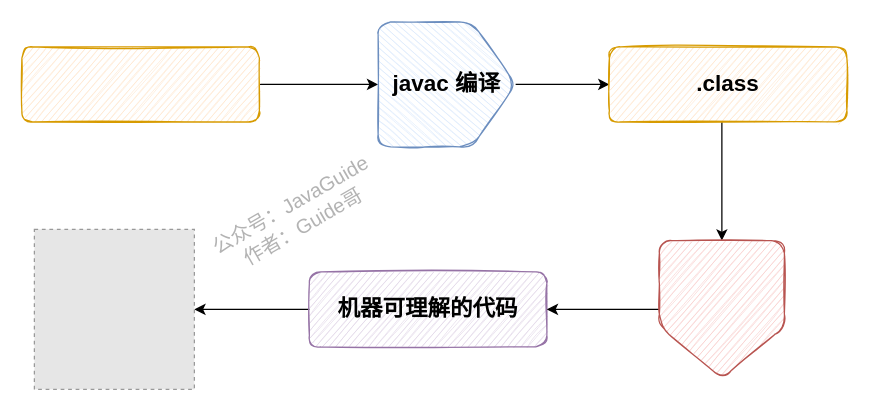
The diagram is 869 pixels wide and 411 high, and some of its shapes have lost their labels. Grey dashed boxes stand in for pictures. Each missing label, with the centre of its shape:
.java: the point at 140,84
解释器 & JIT: the point at 721,308
